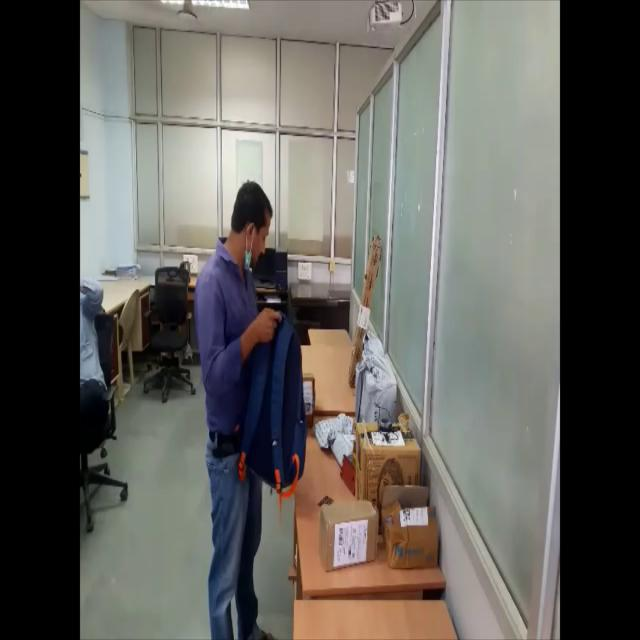shoplifting: (195, 170, 310, 640)
